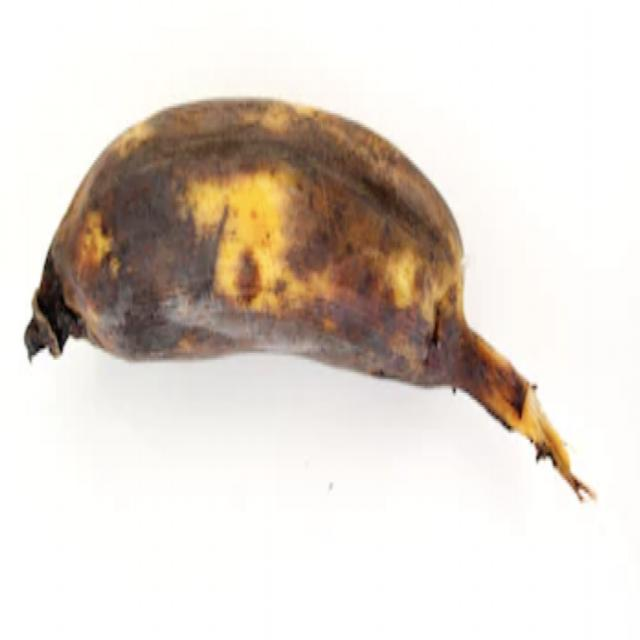rotten-banana: (26, 100, 532, 416)
